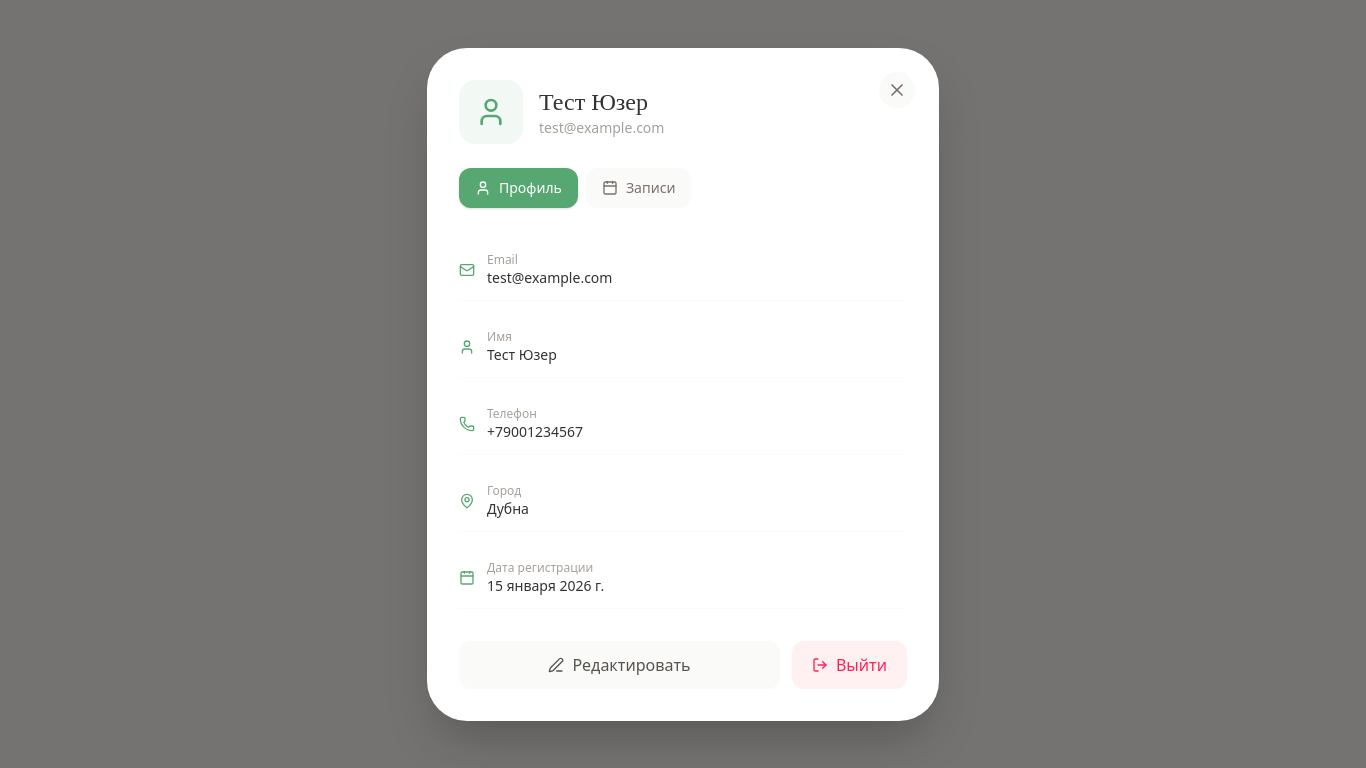
Test: UserCabinet › switches to bookings tab
Click the button "Записи" at (639, 188), box [586,168,691,208]
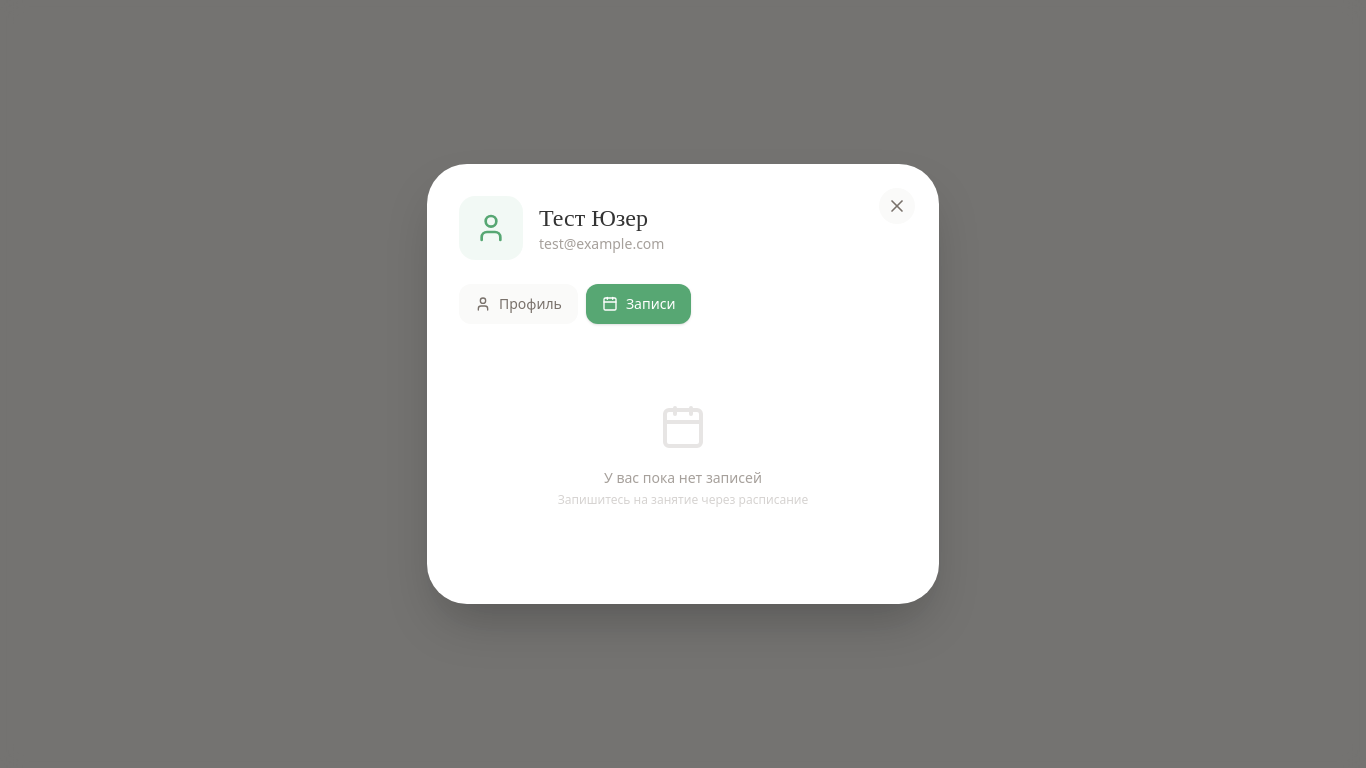
Expected: the text "У вас пока нет записей" is shown, [604,468,762,487]
